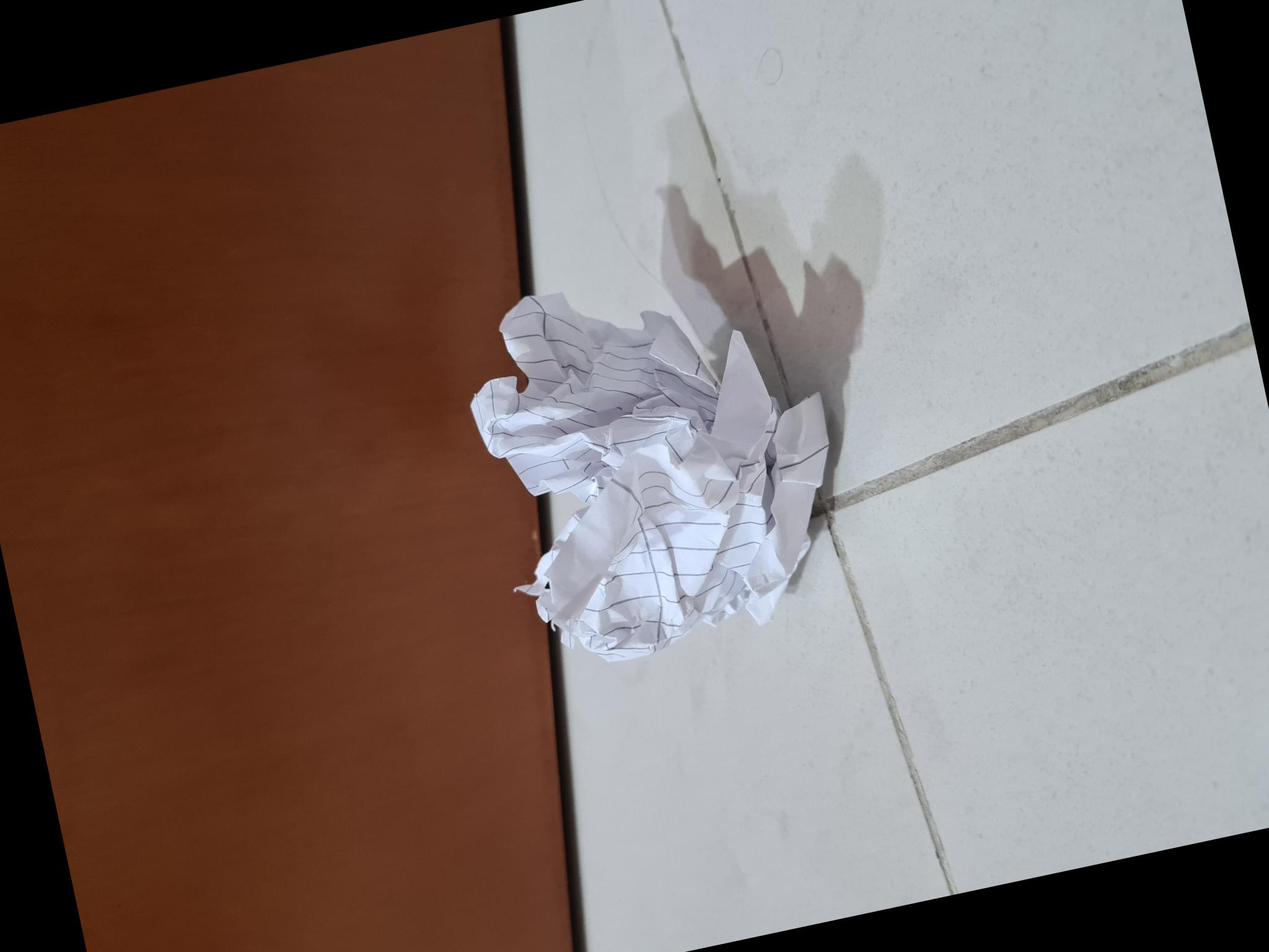Kertas: (329, 501, 693, 858)
